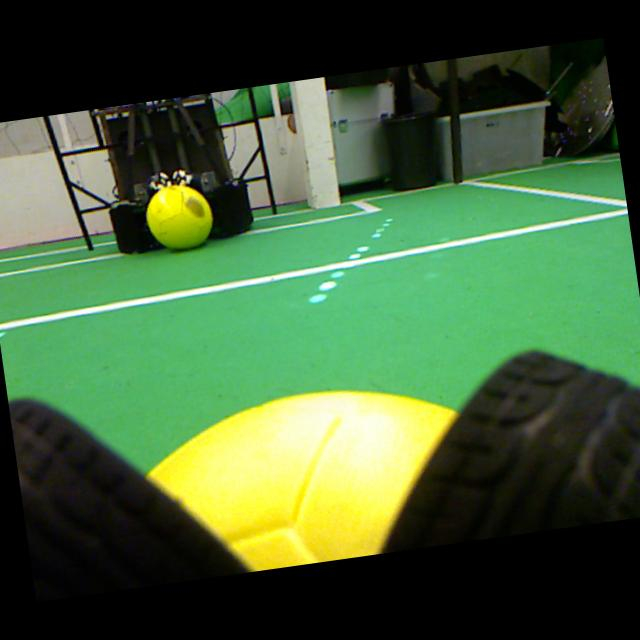ball: (146, 391, 459, 571), (146, 186, 214, 250)
goal: (294, 77, 340, 209)
robot: (96, 93, 251, 254)
